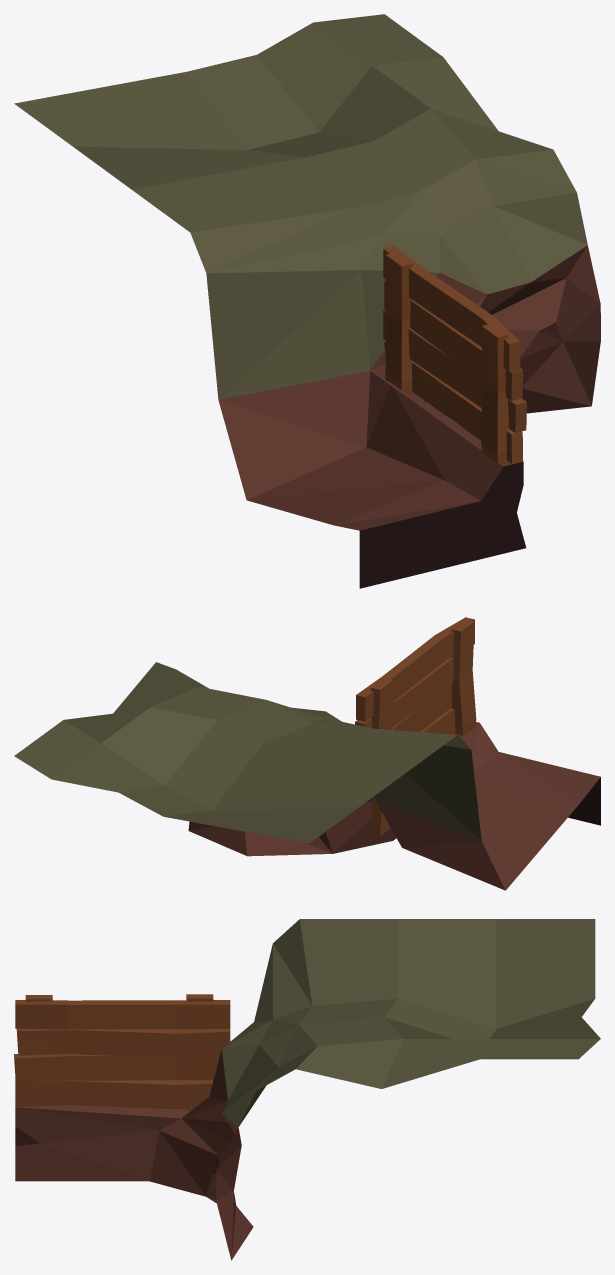
Rendered from Block_UP_LEFT.fbx.
3 views of the same model, one above another, from view 1: azimuth 30°, elevation 25°; view 2: azimuth 150°, elevation 25°; view 3: azimuth 270°, elevation 25° (orthographic). The views are drawn at different scales.
Parts seen in each view (by area): view 1: Block_UP_LEFT; view 2: Block_UP_LEFT; view 3: Block_UP_LEFT.
Boxes of the visible parts, left/top/right/bottom form: Block_UP_LEFT: left=14, top=14, right=600, bottom=588; Block_UP_LEFT: left=14, top=617, right=600, bottom=890; Block_UP_LEFT: left=14, top=919, right=600, bottom=1260.
Bounding box in the file's own units: 13 × 8.28 × 21.85.
